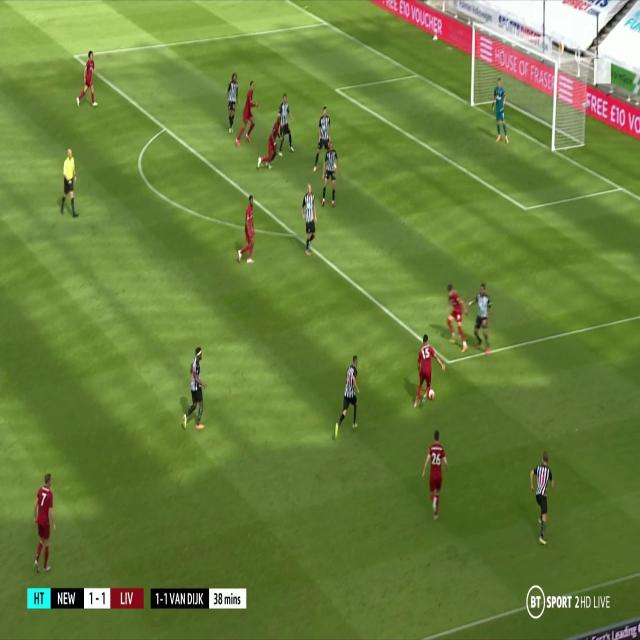ball: (428, 387, 436, 401)
player: (30, 466, 55, 587), (528, 449, 558, 548), (417, 427, 449, 519), (410, 333, 446, 411), (331, 354, 361, 440), (184, 345, 210, 435), (237, 194, 260, 272), (469, 281, 492, 357), (441, 284, 466, 353), (61, 145, 82, 220), (235, 79, 258, 147), (311, 104, 333, 175), (322, 142, 343, 209), (301, 180, 319, 258), (490, 76, 509, 146), (76, 49, 99, 106), (256, 114, 281, 166), (278, 94, 296, 156), (226, 70, 240, 135)
